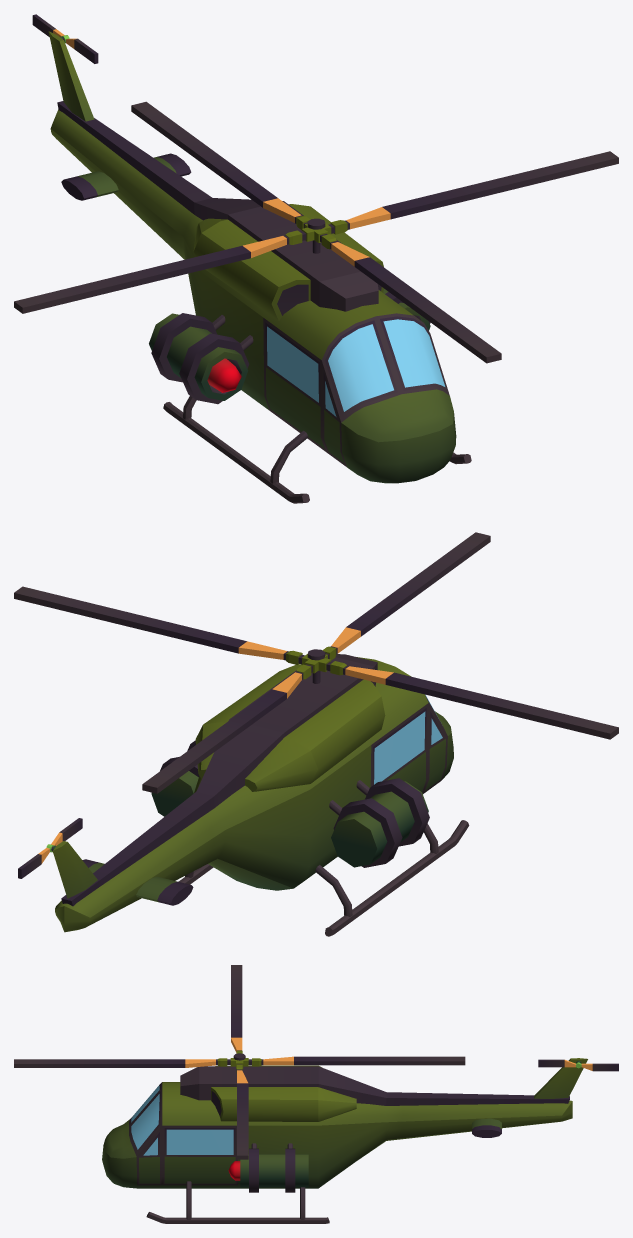
Rendered from Military_Helicopter.fbx.
The picture shows the model from 3 angles, top to bottom: view 1: azimuth 30°, elevation 25°; view 2: azimuth 150°, elevation 25°; view 3: azimuth 270°, elevation 25°; orthographic projection. The views are drawn at different scales.
Visible parts, largest first — view 1: Military_Helicopter, Military_Helicopter_Rotor, Military_Helicopter_Rotor_Back; view 2: Military_Helicopter, Military_Helicopter_Rotor, Military_Helicopter_Rotor_Back; view 3: Military_Helicopter, Military_Helicopter_Rotor, Military_Helicopter_Rotor_Back.
Part boxes in pixels (x1,y1,x2,y2): Military_Helicopter: (48, 31, 471, 503); Military_Helicopter_Rotor: (14, 101, 618, 363); Military_Helicopter_Rotor_Back: (32, 14, 98, 63); Military_Helicopter: (51, 654, 469, 936); Military_Helicopter_Rotor: (14, 532, 618, 793); Military_Helicopter_Rotor_Back: (18, 818, 82, 878); Military_Helicopter: (102, 1058, 587, 1223); Military_Helicopter_Rotor: (14, 965, 465, 1159); Military_Helicopter_Rotor_Back: (538, 1059, 618, 1071).
Size of the model in its own units: 1021 by 355 by 1369.
